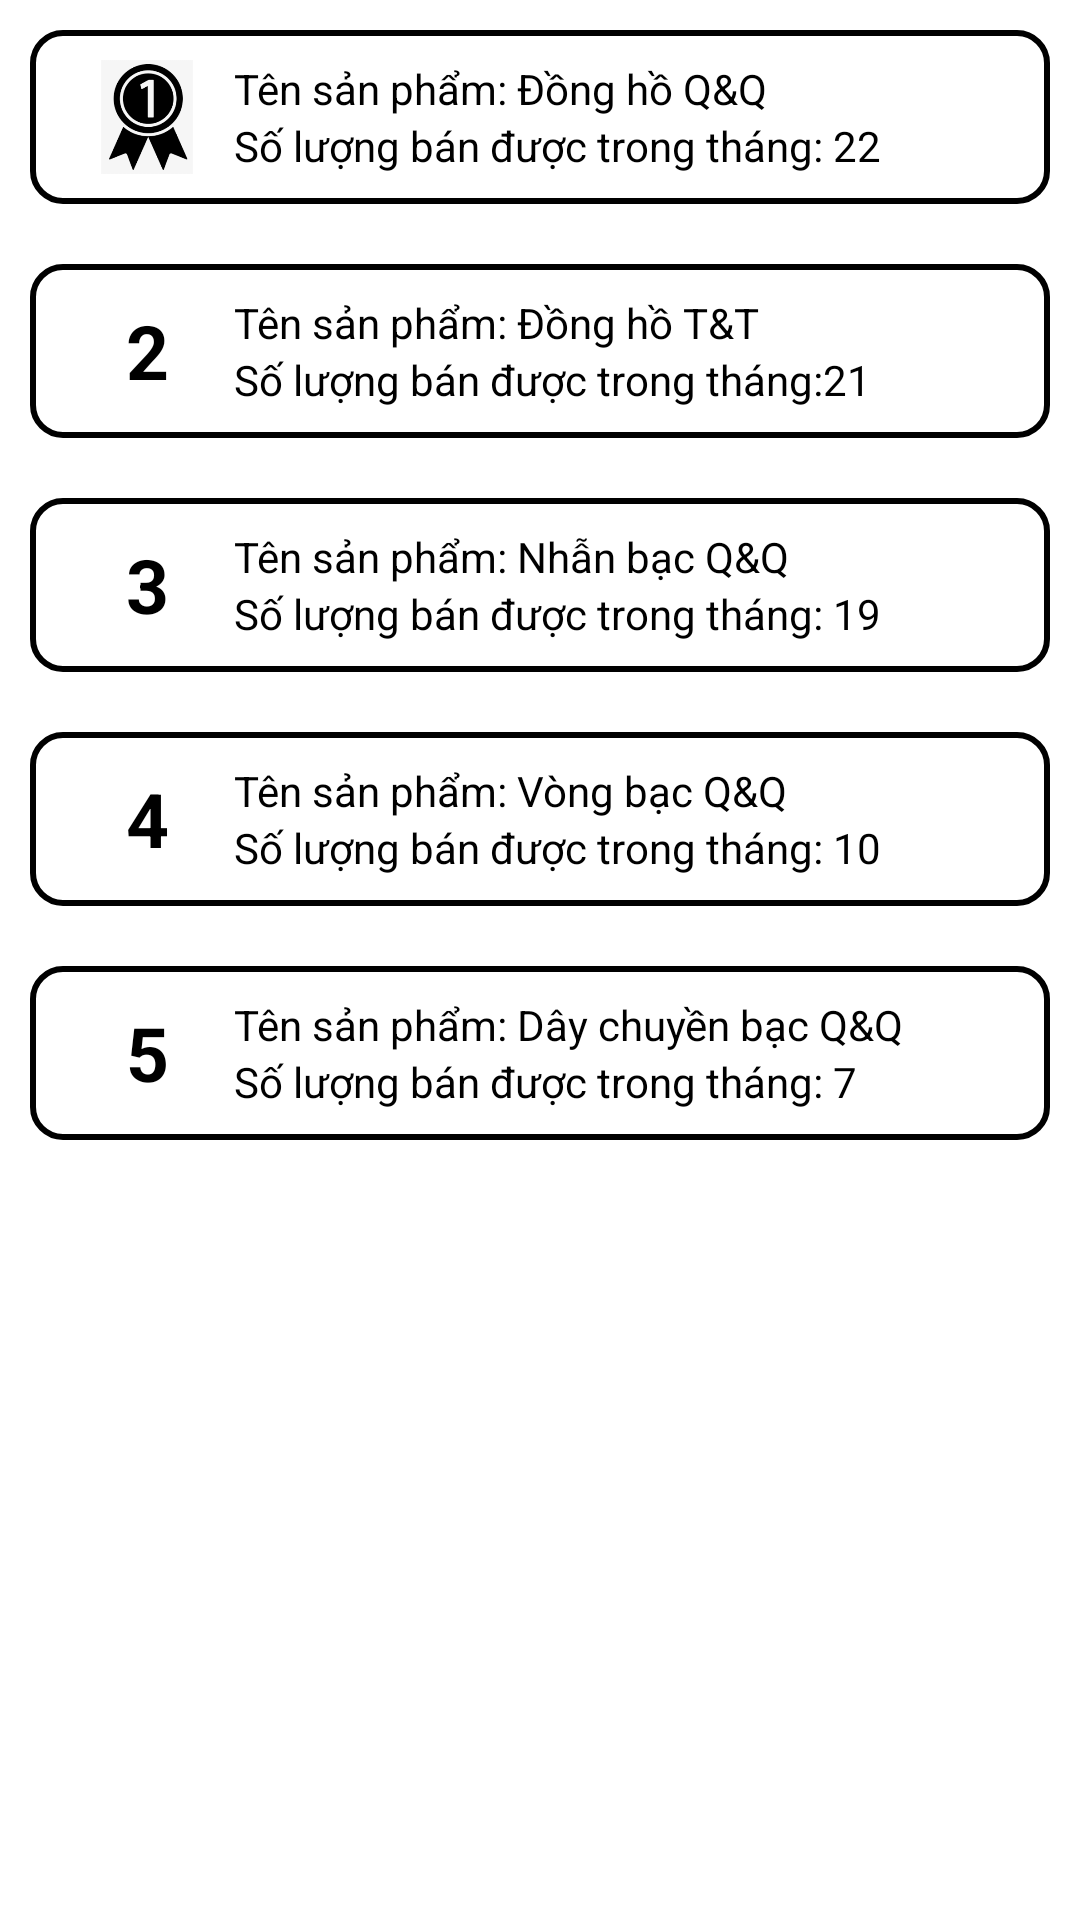

Icons on this 1080 × 1920 Android screen, each with the point to tap as (x=x, y=y):
top: (x=148, y=117)
